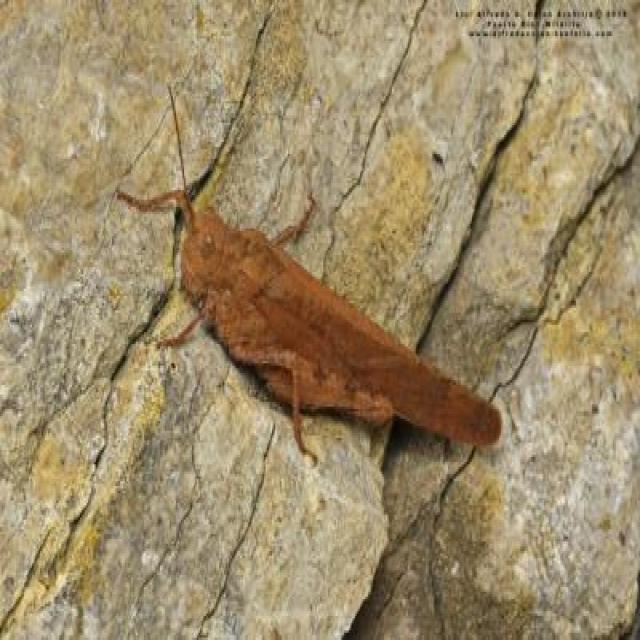antennae: (167, 83, 190, 214), (118, 187, 183, 212)
body: (180, 206, 394, 428)
insect: (109, 81, 506, 470)
legs: (239, 345, 321, 467), (158, 300, 221, 352)
mouthpart: (177, 239, 197, 291)
wings: (236, 242, 500, 446)
